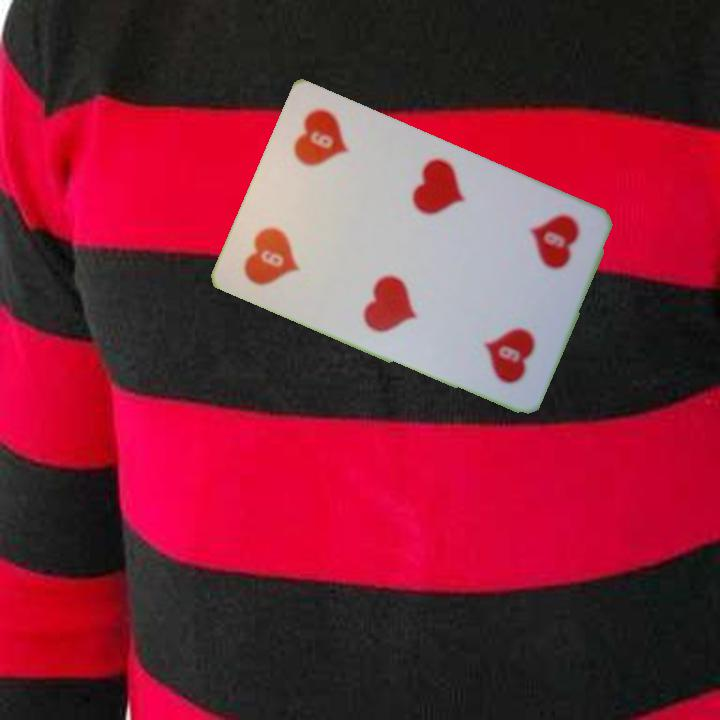h_6.png: (482, 191, 599, 315), (229, 184, 345, 308)
